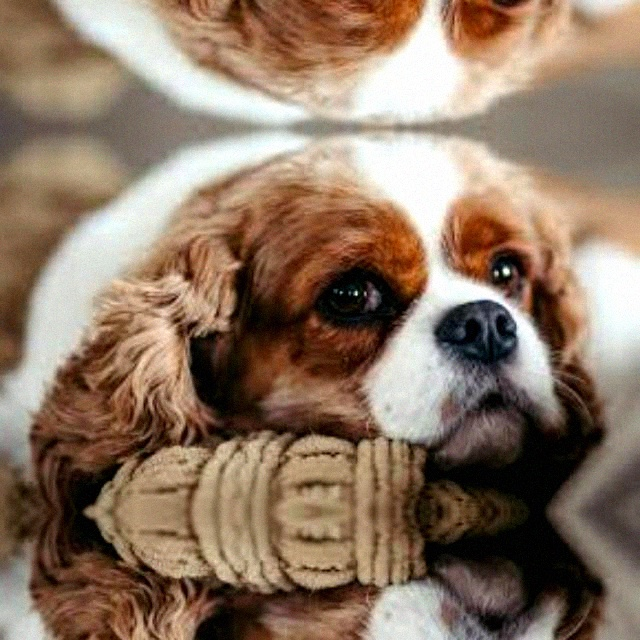dog: (49, 142, 587, 468), (50, 0, 587, 114), (50, 555, 587, 640)
